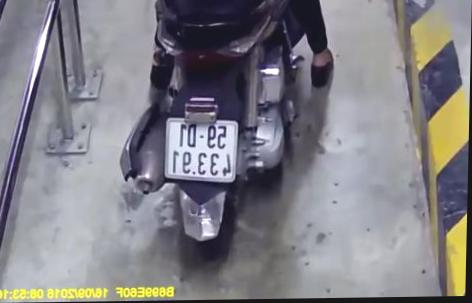License_Plate: (158, 111, 245, 185)
